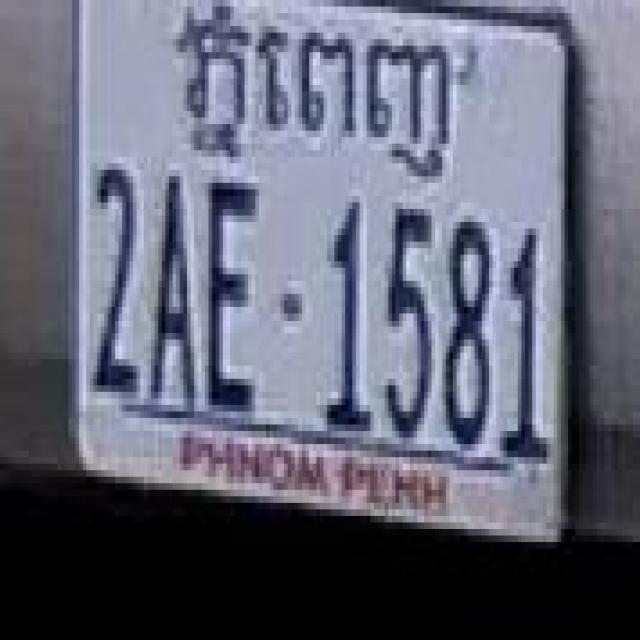Phnom_Penh: (187, 13, 453, 174)
